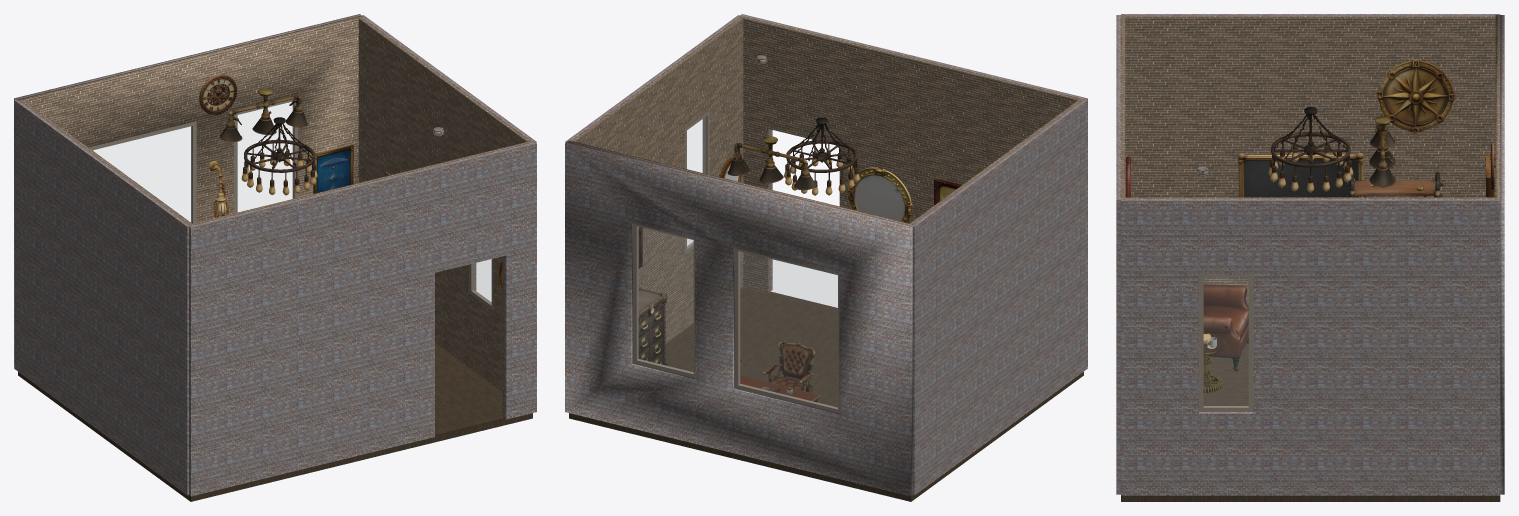
The model's file is scene_web.glb.
3 views of the same model, side by side, from view 1: azimuth 30°, elevation 25°; view 2: azimuth 150°, elevation 25°; view 3: azimuth 270°, elevation 25° (orthographic). The views are drawn at different scales.
Parts seen in each view (by area): view 1: geometry_0.003, geometry_0.007, geometry_0, geometry_0.004, Mesh_0, glass, glass.001, geometry_0.025, geometry_0.026, geometry_0.017, geometry_0.002, geometry_0.024 (+6 smaller); view 2: geometry_0.001, geometry_0.007, geometry_0.002, geometry_0.004, glass, Mesh_0, glass.001, geometry_0.018, geometry_0.025, frame, geometry_0.014, geometry_0.009 (+9 smaller); view 3: geometry_0.005, geometry_0.006, glass.002, Mesh_0, geometry_0.023, geometry_0.022, geometry_0.025, geometry_0.011, geometry_0.001, geometry_0.003, frame.002, geometry_0.010 (+6 smaller).
Boxes of the visible parts, bbox=[...] form: geometry_0.003: bbox=[189, 142, 536, 496]; geometry_0.007: bbox=[14, 100, 188, 495]; geometry_0: bbox=[16, 15, 363, 222]; geometry_0.004: bbox=[358, 17, 530, 391]; Mesh_0: bbox=[18, 343, 532, 501]; glass: bbox=[93, 126, 191, 222]; glass.001: bbox=[238, 102, 293, 211]; geometry_0.025: bbox=[241, 117, 317, 195]; geometry_0.026: bbox=[219, 88, 308, 141]; geometry_0.017: bbox=[313, 145, 353, 193]; geometry_0.002: bbox=[187, 140, 534, 417]; geometry_0.024: bbox=[199, 74, 237, 114]; geometry_0.001: bbox=[565, 142, 912, 496]; geometry_0.007: bbox=[913, 100, 1087, 495]; geometry_0.002: bbox=[738, 15, 1085, 292]; geometry_0.004: bbox=[571, 17, 743, 343]; glass: bbox=[739, 251, 837, 408]; Mesh_0: bbox=[569, 287, 1083, 501]; glass.001: bbox=[637, 227, 693, 372]; geometry_0.018: bbox=[847, 167, 912, 223]; geometry_0.025: bbox=[784, 117, 859, 195]; frame: bbox=[734, 248, 839, 413]; geometry_0.014: bbox=[638, 286, 667, 365]; geometry_0.009: bbox=[763, 340, 815, 392]; geometry_0.005: bbox=[1121, 199, 1500, 495]; geometry_0.006: bbox=[1125, 16, 1495, 304]; glass.002: bbox=[1204, 277, 1248, 406]; Mesh_0: bbox=[1121, 342, 1500, 501]; geometry_0.023: bbox=[1374, 59, 1455, 133]; geometry_0.022: bbox=[1238, 153, 1363, 197]; geometry_0.025: bbox=[1268, 107, 1353, 192]; geometry_0.011: bbox=[1203, 284, 1248, 371]; geometry_0.001: bbox=[1500, 15, 1504, 494]; geometry_0.003: bbox=[1116, 15, 1120, 494]; frame.002: bbox=[1199, 274, 1253, 411]; geometry_0.010: bbox=[1346, 171, 1443, 197].
Size of the model in its own units: 4.9 by 3.7 by 4.3.
Materials: 40 (38 with a texture image).
